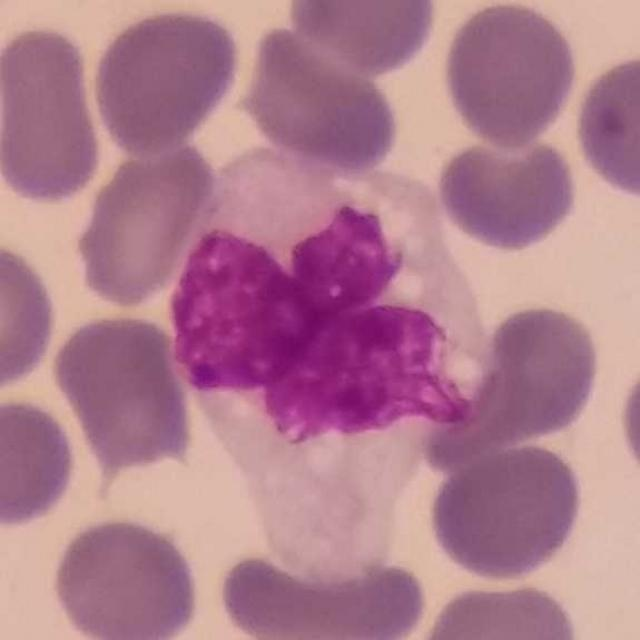Monocyte: (169, 143, 495, 586)
RBC: (74, 136, 240, 318), (238, 19, 404, 179), (48, 307, 198, 473), (88, 3, 244, 158), (425, 439, 588, 583), (438, 0, 581, 150), (211, 544, 432, 640), (0, 20, 108, 209), (46, 512, 204, 640), (476, 300, 606, 446), (434, 129, 581, 254), (283, 0, 442, 78), (0, 393, 81, 533), (411, 576, 584, 640), (570, 48, 640, 204), (0, 235, 61, 398), (614, 345, 640, 499)
